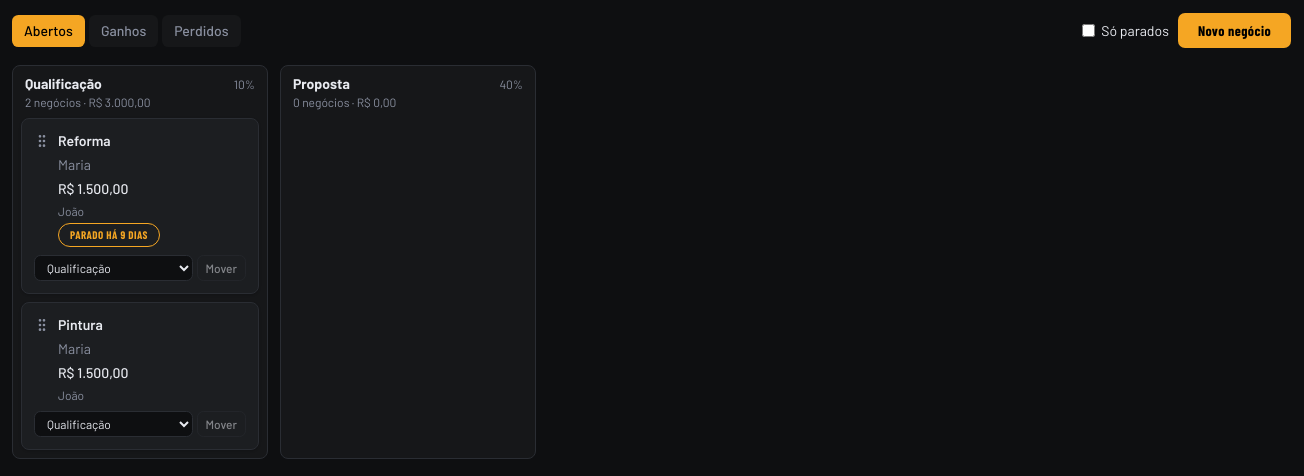
Test case: kanban › mostra o selo de parado e filtra só os parados
Expected: the text "Parado há 9 dias" is shown, top-left (58, 223), bottom-right (160, 247)
Expected: the link "Pintura" is shown, top-left (58, 316), bottom-right (103, 333)
Click the checkbox labelled "Só parados". click: {"x": 1089, "y": 30}
box: top-left (1082, 24), bottom-right (1095, 37)
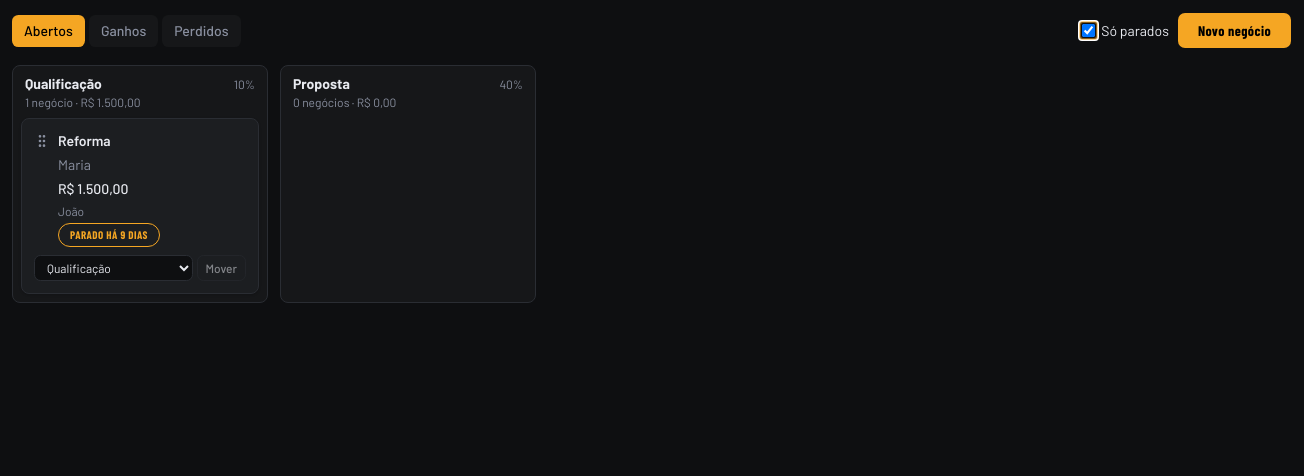
Expected: the link "Reforma" is shown, top-left (58, 132), bottom-right (111, 149)
Result: the link "Pintura" is gone
